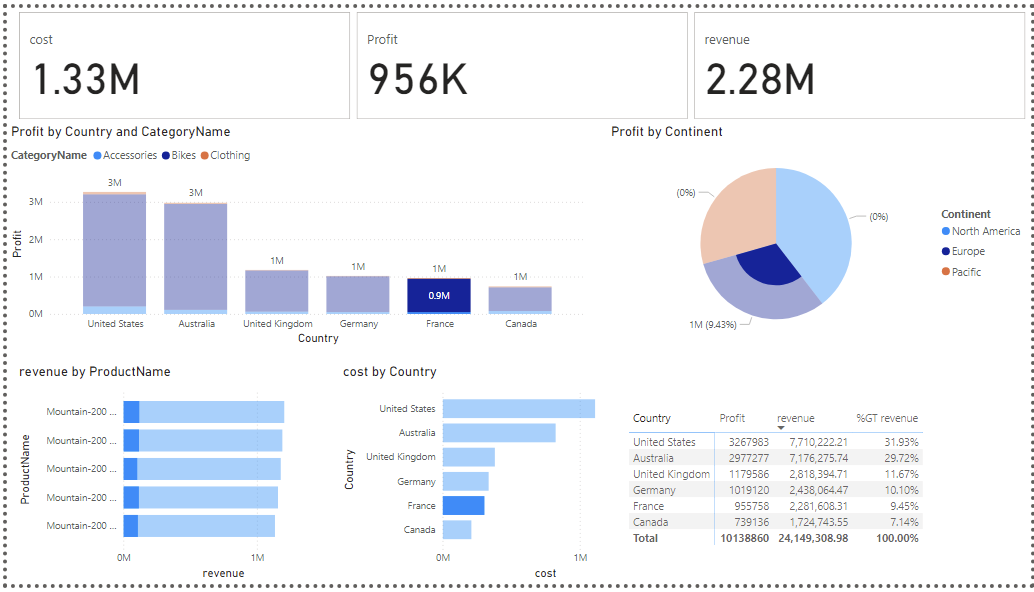

The dashboard page shown, as its layout file describes it:
{"tool":"powerbi","page":{"name":"Page 1","canvas":[1280,720],"ordinal":0},"visuals":[{"type":"cardVisual","fields":{"Data":["Measure.cost","Measure.Profit","Measure.revenue"]},"box":[10.3,0,1269.7,144.7],"z":0},{"type":"pieChart","fields":{"Y":["Measure.Profit"],"Category":["Dim_Territories.Continent"]},"box":[750,145,531.7,280],"z":1},{"type":"columnChart","fields":{"Category":["Dim_Territories.Country"],"Y":["Measure.Profit"],"Series":["Dim_Product_Categorie.CategoryName"]},"box":[0,144.7,728.7,280.8],"z":2},{"type":"clusteredBarChart","fields":{"Category":["Dim_Product.ProductName"],"Y":["Measure.revenue"]},"box":[10.3,446.2,404.8,273.9],"z":5},{"type":"clusteredBarChart","fields":{"Y":["Measure.cost"],"Category":["Dim_Territories.Country"]},"box":[414.3,445.7,405.7,274.3],"z":6},{"type":"pivotTable","fields":{"Values":["Measure.Profit","Measure.revenue","Divide(Measure.revenue, ScopedEval(Measure.revenue, []))"],"Rows":["Dim_Territories.Country"]},"box":[772,498,508,202],"z":7}]}

Visuals, with their boxes in screenshot pixels (x1, y1, x2, y2), scaled from the page's 1280x720 canvas onto the 1034x592 screenshot:
cardVisual - Measure.cost x Measure.Profit: crop(8, 0, 1033, 119)
pieChart - Measure.Profit x Dim_Territories.Continent: crop(606, 119, 1033, 349)
columnChart - Dim_Territories.Country x Measure.Profit: crop(0, 119, 589, 350)
clusteredBarChart - Dim_Product.ProductName x Measure.revenue: crop(8, 367, 335, 591)
clusteredBarChart - Measure.cost x Dim_Territories.Country: crop(335, 366, 662, 591)
pivotTable - Measure.Profit x Measure.revenue: crop(624, 409, 1033, 576)
